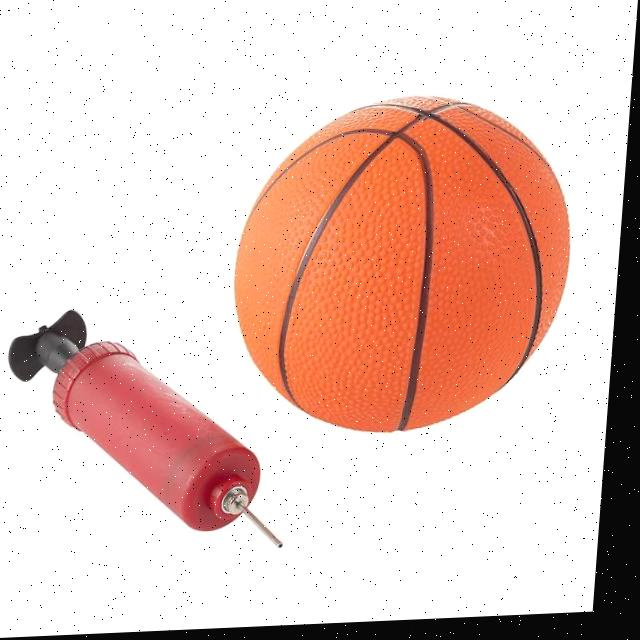Basketball: (221, 87, 582, 440)
